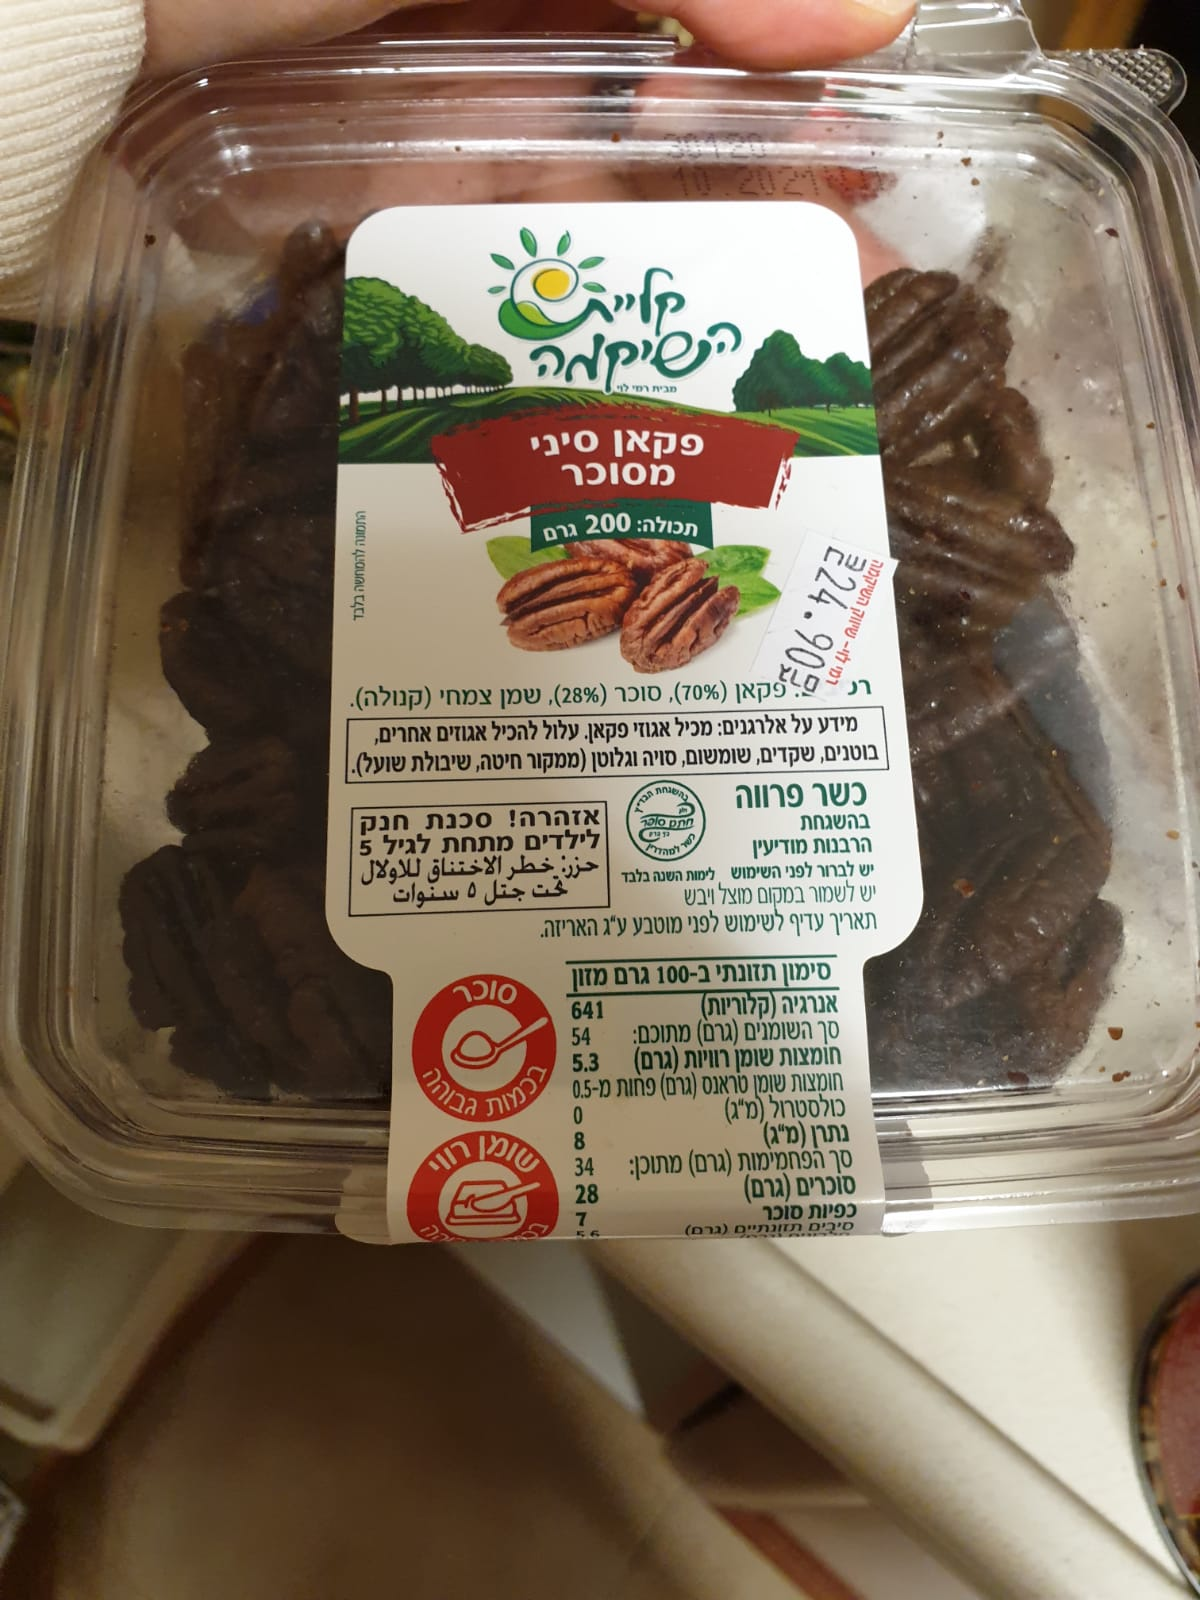fat: (407, 1131, 561, 1245)
sugar: (412, 975, 561, 1125)
